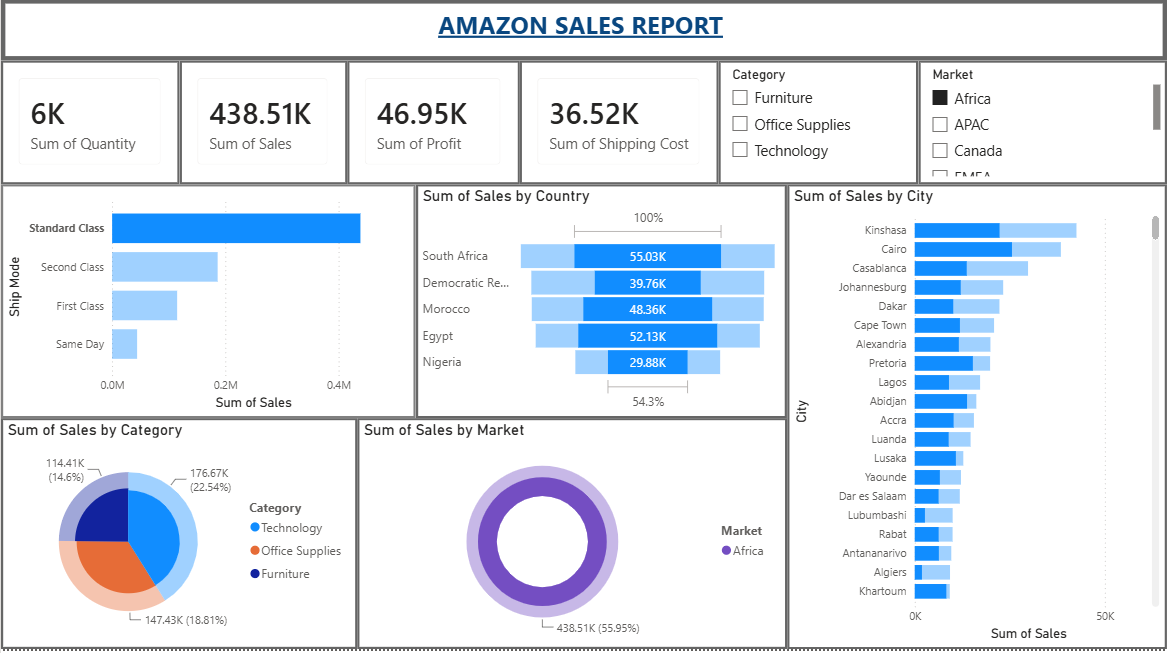

The page's visual inventory and layout, read from the dashboard file:
{"tool":"powerbi","page":{"name":"Page 1","canvas":[1280,720],"ordinal":0},"visuals":[{"type":"pieChart","fields":{"Category":["Orders.Category"],"Y":["Sum(Orders.Sales)"]},"box":[0,466.6,391.1,253.9],"z":0},{"type":"donutChart","fields":{"Category":["Orders.Market"],"Y":["Sum(Orders.Sales)"]},"box":[391.1,466.6,472,253.9],"z":1000},{"type":"barChart","fields":{"Category":["Orders.Ship Mode"],"Y":["Sum(Orders.Sales)"]},"box":[0,209.9,455.6,256.6],"z":2000},{"type":"barChart","fields":{"Category":["Orders.City"],"Y":["Sum(Orders.Sales)"]},"box":[863.1,209.9,417.2,510.5],"z":3000},{"type":"funnel","fields":{"Category":["Orders.Country"],"Y":["Sum(Orders.Sales)"]},"box":[455.6,209.9,407.5,256.6],"z":4000},{"type":"textbox","box":[0,6.9,1280.3,67.2],"z":5000},{"type":"cardVisual","fields":{"Data":["Sum(Orders.Quantity)"]},"box":[0,74.1,196.2,135.8],"z":6000},{"type":"cardVisual","fields":{"Data":["Sum(Orders.Sales)"]},"box":[196.2,74.1,183.9,135.8],"z":7000},{"type":"cardVisual","fields":{"Data":["Sum(Orders.Profit)"]},"box":[380.1,74.1,189.4,135.8],"z":8000},{"type":"cardVisual","fields":{"Data":["Sum(Orders.Shipping Cost)"]},"box":[569.5,74.1,218.2,135.8],"z":9000},{"type":"slicer","fields":{"Values":["Orders.Category"]},"box":[787.7,74.1,219.6,135.8],"z":9001},{"type":"slicer","fields":{"Values":["Orders.Market"]},"box":[1007.2,74.1,273.1,135.8],"z":9002}]}

Visuals, with their boxes in screenshot pixels (x1, y1, x2, y2), scaled from the page's 1280x720 canvas onto the 1167x653 screenshot:
pieChart - Orders.Category x Sum(Orders.Sales): bbox=(0, 423, 357, 652)
donutChart - Orders.Market x Sum(Orders.Sales): bbox=(357, 423, 787, 652)
barChart - Orders.Ship Mode x Sum(Orders.Sales): bbox=(0, 190, 415, 423)
barChart - Orders.City x Sum(Orders.Sales): bbox=(787, 190, 1166, 652)
funnel - Orders.Country x Sum(Orders.Sales): bbox=(415, 190, 787, 423)
textbox: bbox=(0, 6, 1166, 67)
cardVisual - Sum(Orders.Quantity): bbox=(0, 67, 179, 190)
cardVisual - Sum(Orders.Sales): bbox=(179, 67, 347, 190)
cardVisual - Sum(Orders.Profit): bbox=(347, 67, 519, 190)
cardVisual - Sum(Orders.Shipping Cost): bbox=(519, 67, 718, 190)
slicer - Orders.Category: bbox=(718, 67, 918, 190)
slicer - Orders.Market: bbox=(918, 67, 1166, 190)
